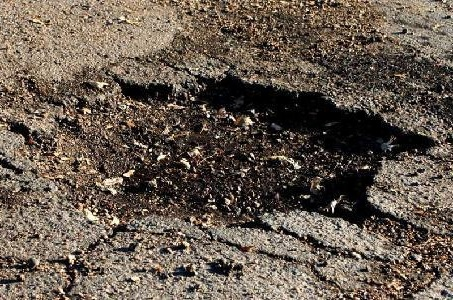pothole: (12, 72, 437, 230)
